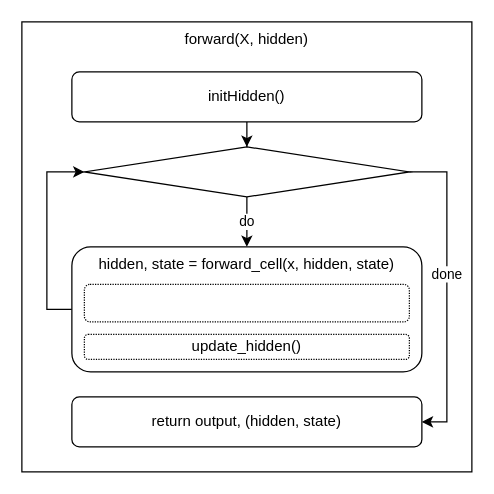
The diagram is 494 pixels wide and 494 high, and some of its shapes have lost their labels. Each missing label, with the centre of its shape:
"Compute LSTM gates" belongs at (x=246, y=302).
"For element x in sequence" belongs at (x=246, y=171).
